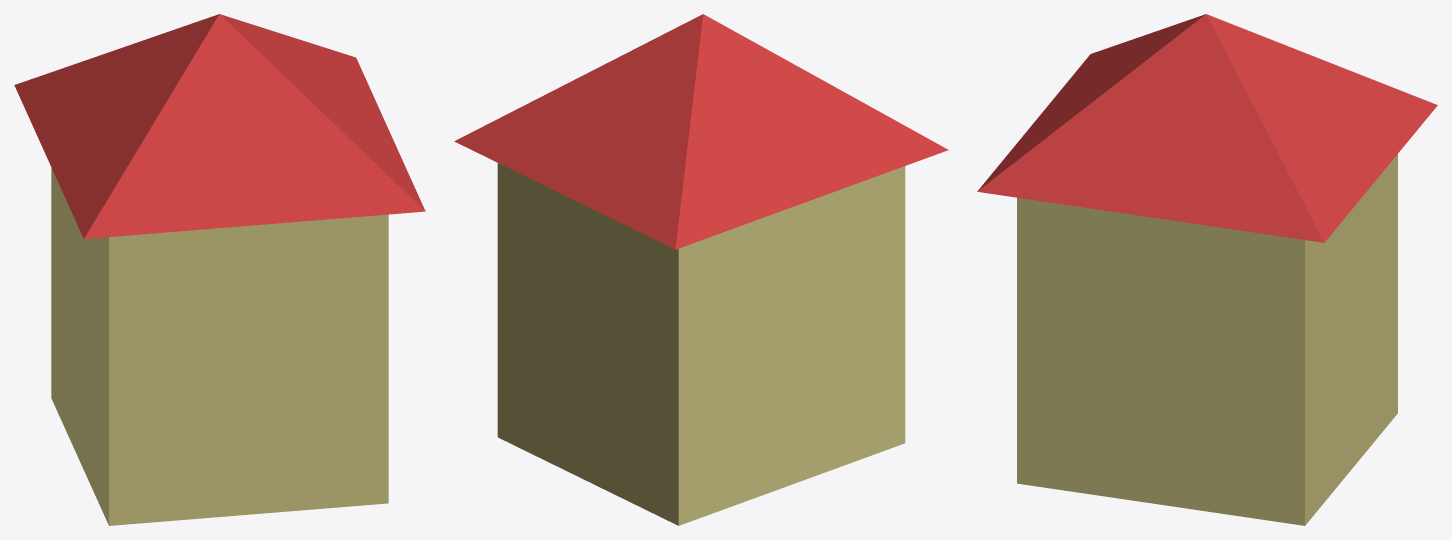
3 views of the same model, side by side, from view 1: azimuth 30°, elevation 25°; view 2: azimuth 150°, elevation 25°; view 3: azimuth 270°, elevation 25° (orthographic). The views are drawn at different scales.
Visible parts, largest first — view 1: group_5, group_3, group_4; view 2: group_5, group_3, group_4; view 3: group_5, group_3, group_4.
Part boxes in pixels (x1=…): group_5: x1=51, y1=167, x2=388, y2=525; group_3: x1=52, y1=14, x2=425, y2=237; group_4: x1=14, y1=72, x2=424, y2=238; group_5: x1=497, y1=163, x2=905, y2=525; group_3: x1=480, y1=14, x2=903, y2=249; group_4: x1=454, y1=119, x2=948, y2=249; group_5: x1=1017, y1=154, x2=1397, y2=525; group_3: x1=977, y1=14, x2=1437, y2=242; group_4: x1=978, y1=47, x2=1437, y2=242.
Size of the model in its own units: 10.67 by 11 by 11.43.
